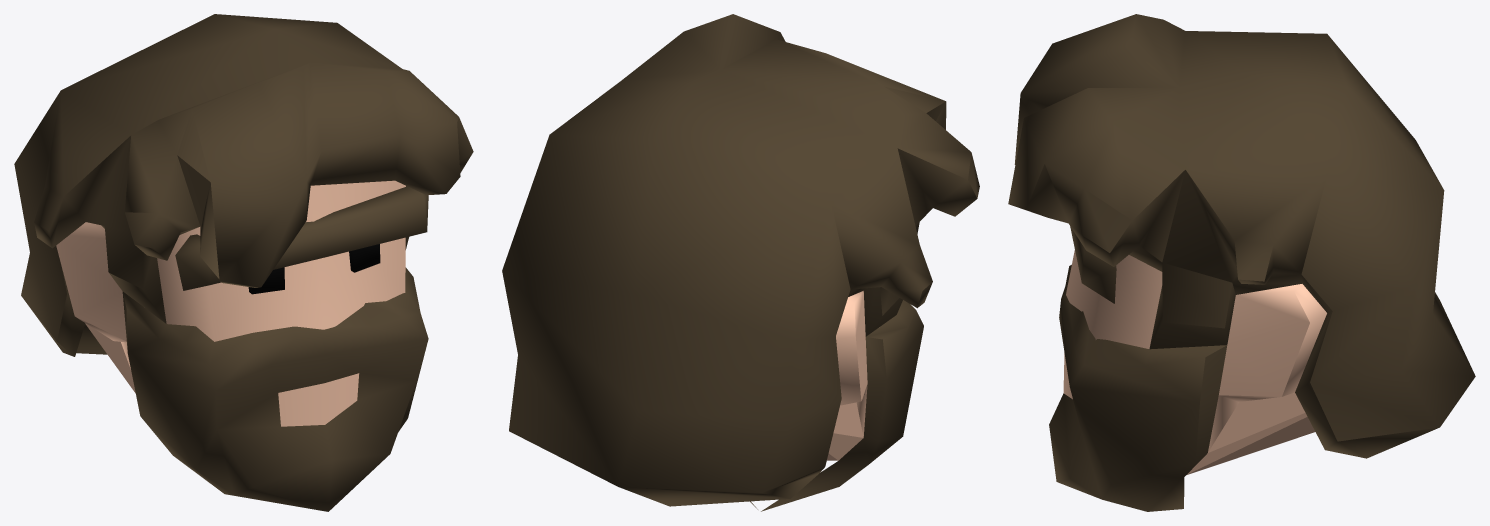
3 renders of one model, left to right at view 1: azimuth 30°, elevation 25°; view 2: azimuth 150°, elevation 25°; view 3: azimuth 270°, elevation 25°, orthographic. The views are drawn at different scales.
Visible parts, largest first — view 1: Character_Father_02_1; view 2: Character_Father_02_1; view 3: Character_Father_02_1.
Part boxes in pixels (x1=…): Character_Father_02_1: x1=14, y1=14, x2=473, y2=511; Character_Father_02_1: x1=502, y1=14, x2=979, y2=511; Character_Father_02_1: x1=1008, y1=14, x2=1475, y2=511.
Bounding box in the file's own units: 1.64 × 1.82 × 1.67.
1 material, 1 textured.
